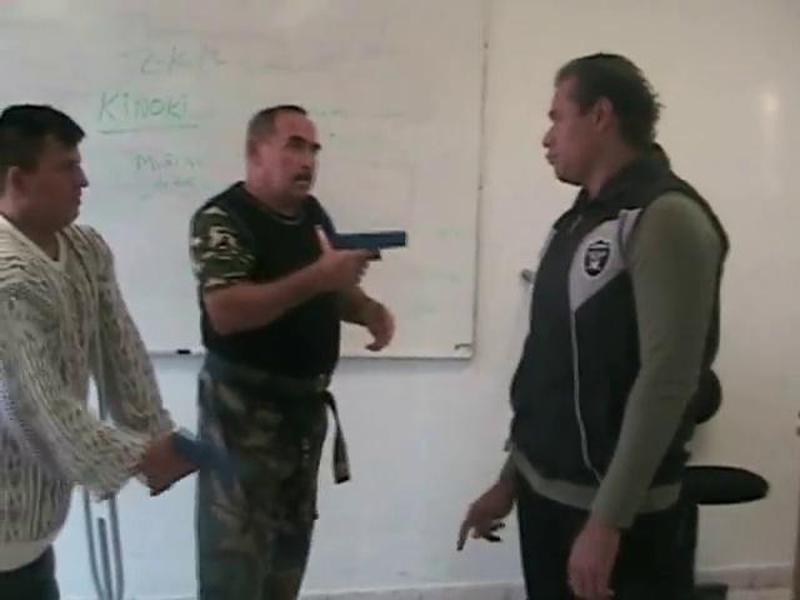Pistola: (331, 227, 407, 277)
